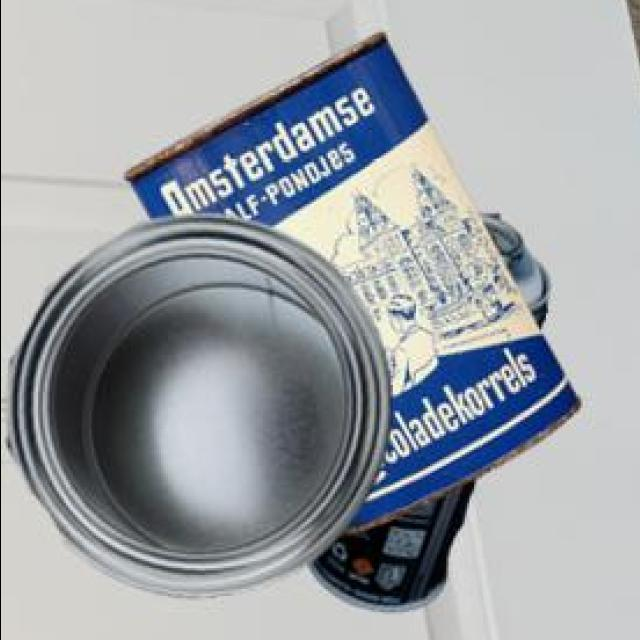logam: (119, 36, 576, 539), (3, 217, 386, 599), (305, 218, 546, 616)
